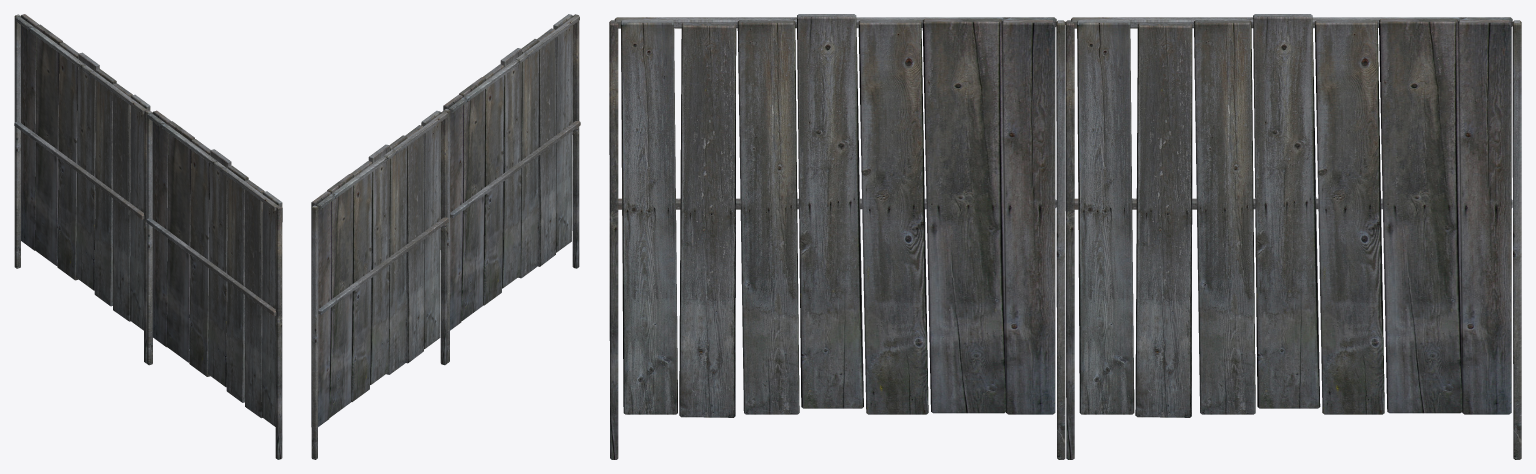
Rendered from leftfence.obj.
3 views of the same model, side by side, from view 1: azimuth 30°, elevation 25°; view 2: azimuth 150°, elevation 25°; view 3: azimuth 270°, elevation 25° (orthographic). The views are drawn at different scales.
Visible parts, largest first — view 1: UhG81k.024_UhG81k_0; view 2: UhG81k.024_UhG81k_0; view 3: UhG81k.024_UhG81k_0.
Boxes of the visible parts, <box> form: UhG81k.024_UhG81k_0: <box>14,14,282,459</box>; UhG81k.024_UhG81k_0: <box>311,14,580,459</box>; UhG81k.024_UhG81k_0: <box>609,14,1521,459</box>.
Size of the model in its own units: 0.011 by 0.245 by 0.4544.
